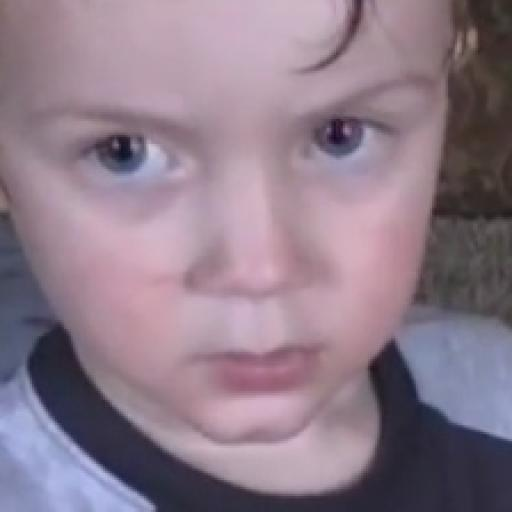Autism: (22, 14, 454, 444)
